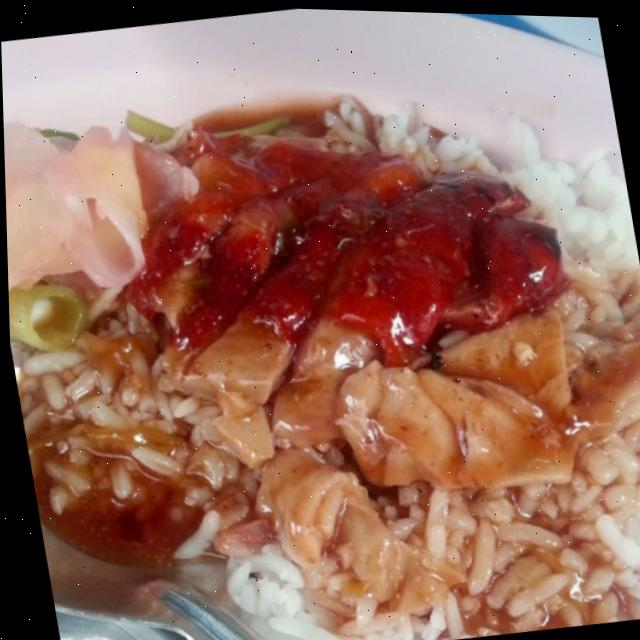米饭主食: (1, 52, 640, 640)
